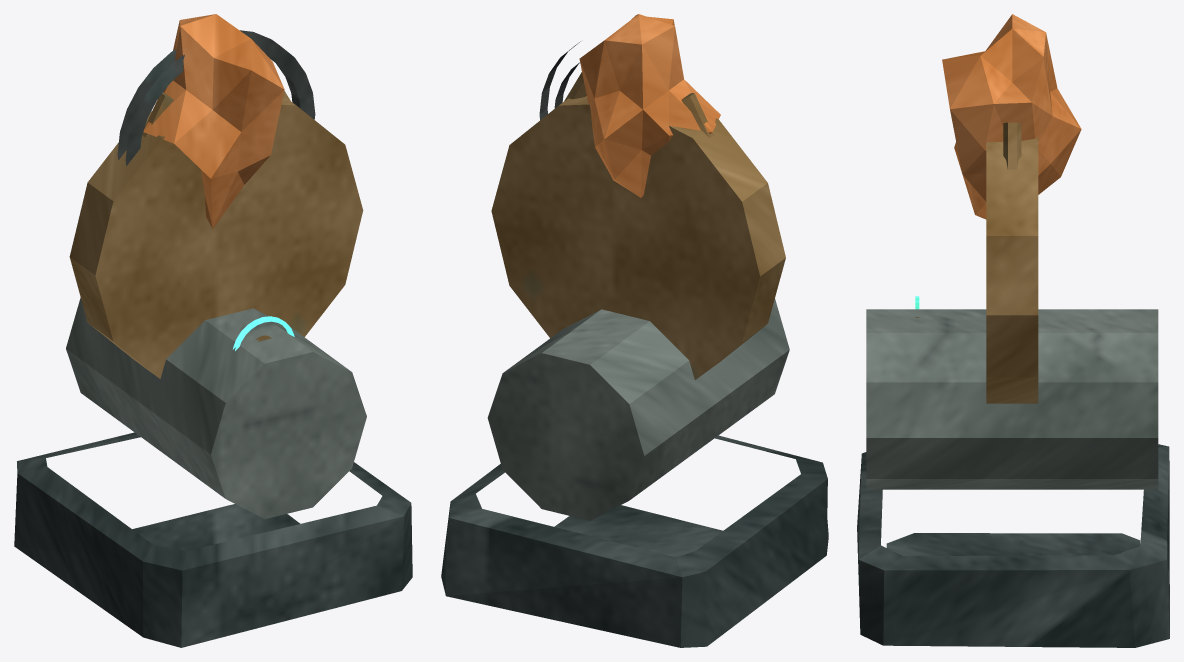
File: 0593_relic_pedestal_18.glb
3 views of the same model, side by side, from view 1: azimuth 30°, elevation 25°; view 2: azimuth 150°, elevation 25°; view 3: azimuth 270°, elevation 25° (orthographic).
Parts seen in each view (by area): view 1: brass, stone_dark, stone, amber, iron; view 2: brass, stone_dark, stone, amber, iron; view 3: stone, stone_dark, amber, brass.
Boxes of the visible parts, x1,y1,x2,y2 form: brass: (69, 91, 363, 378); stone_dark: (14, 432, 412, 647); stone: (66, 298, 366, 518); amber: (143, 14, 284, 228); iron: (117, 30, 315, 165); brass: (491, 72, 785, 379); stone_dark: (441, 435, 828, 647); stone: (487, 299, 789, 520); amber: (579, 14, 720, 198); iron: (539, 41, 580, 120); stone: (866, 309, 1158, 489); stone_dark: (857, 444, 1169, 647); amber: (942, 14, 1081, 219); brass: (915, 122, 1038, 403).
Bounding box in the file's own units: 0.9708 × 1.91 × 0.9651.
Materials: 6 (6 with a texture image).
